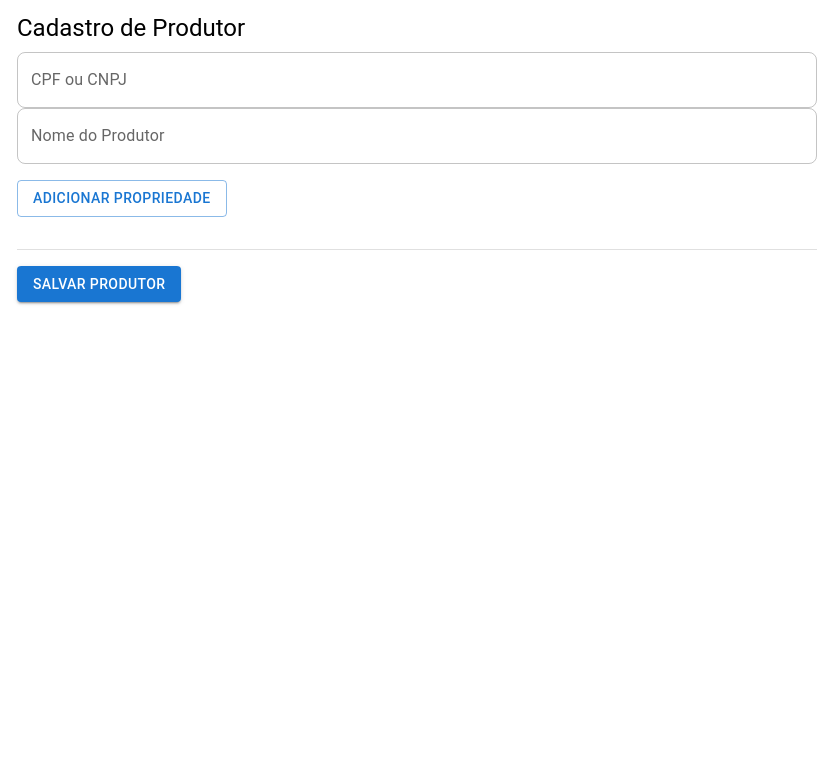
Test: ProducerFormScreen › deve adicionar uma propriedade ao clicar em "Adicionar Propriedade"
Step 1. Click the button "Adicionar Propriedade" → (122, 199), box top-left (17, 180), bottom-right (226, 217)
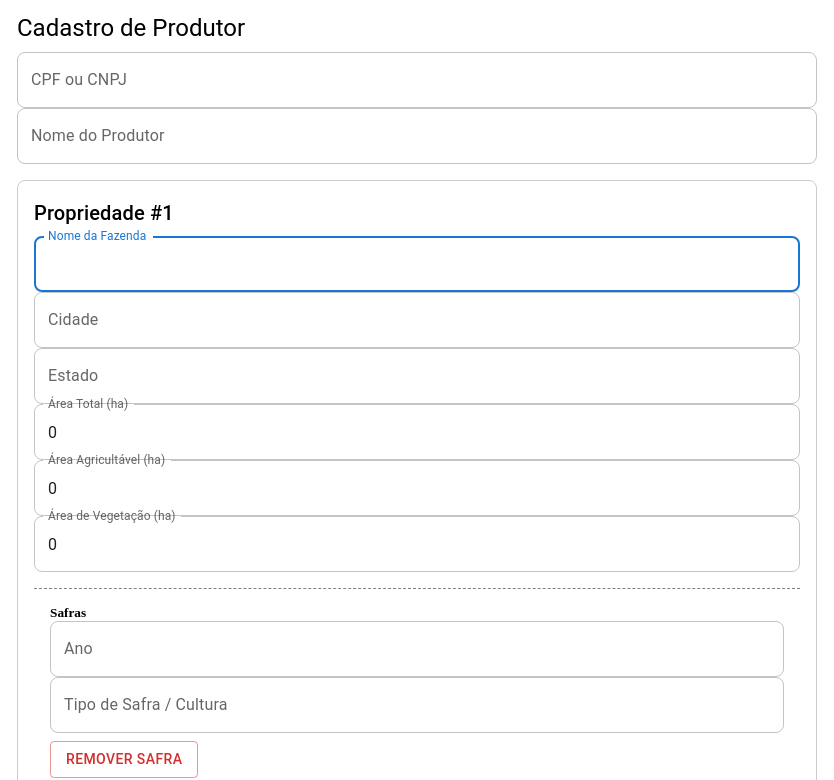
Result: the heading "Propriedade #1" is shown at top-left (34, 201), bottom-right (174, 225)
Result: the field labelled "Nome da Fazenda" is shown at top-left (34, 236), bottom-right (800, 292)
